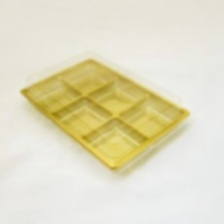plastic_box: (12, 42, 200, 181)
